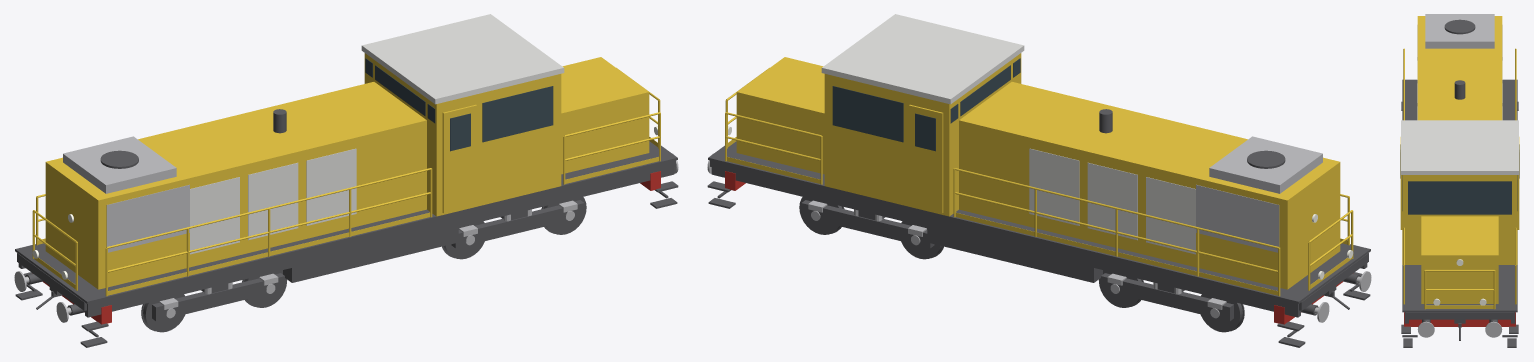
File: SM_ShuntingLocomotive.fbx
3 views of the same model, side by side, from view 1: azimuth 30°, elevation 25°; view 2: azimuth 150°, elevation 25°; view 3: azimuth 270°, elevation 25° (orthographic). The views are drawn at different scales.
Visible parts, largest first — view 1: SL_Body, SL_CabDoor_R, SL_Bogie2_Frame, SL_Bogie1_Frame, SL_Bogie2_WS1, SL_Bogie1_WS2, SL_Bogie2_WS2, SL_Bogie1_WS1; view 2: SL_Body, SL_CabDoor_L, SL_Bogie2_Frame, SL_Bogie1_Frame, SL_Bogie2_WS1, SL_Bogie1_WS2, SL_Bogie2_WS2, SL_Bogie1_WS1; view 3: SL_Body, SL_CabDoor_L, SL_CabDoor_R.
Boxes of the visible parts, box(x1,y1,x2,y2) form: SL_Body: box(14, 14, 678, 347); SL_CabDoor_R: box(442, 104, 476, 213); SL_Bogie2_Frame: box(152, 273, 284, 321); SL_Bogie1_Frame: box(451, 200, 584, 248); SL_Bogie2_WS1: box(141, 294, 185, 332); SL_Bogie1_WS2: box(541, 197, 586, 234); SL_Bogie2_WS2: box(242, 270, 287, 307); SL_Bogie1_WS1: box(442, 221, 484, 259); SL_Body: box(707, 14, 1371, 347); SL_CabDoor_L: box(909, 104, 943, 213); SL_Bogie2_Frame: box(1101, 273, 1233, 321); SL_Bogie1_Frame: box(801, 200, 934, 248); SL_Bogie2_WS1: box(1200, 294, 1244, 332); SL_Bogie1_WS2: box(799, 197, 844, 234); SL_Bogie2_WS2: box(1098, 270, 1143, 307); SL_Bogie1_WS1: box(901, 221, 943, 259); SL_Body: box(1401, 14, 1518, 347); SL_CabDoor_L: box(1517, 137, 1519, 229); SL_CabDoor_R: box(1400, 137, 1402, 229).
Size of the model in its own units: 1492 by 425 by 310.
